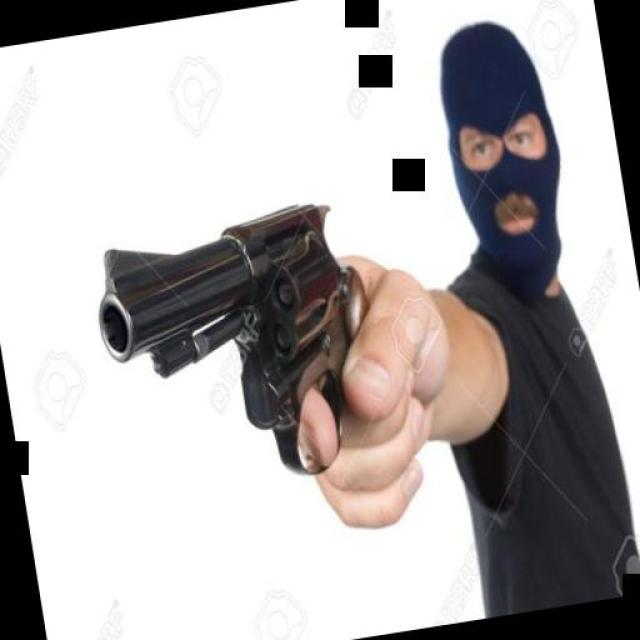gun: (75, 152, 401, 532)
